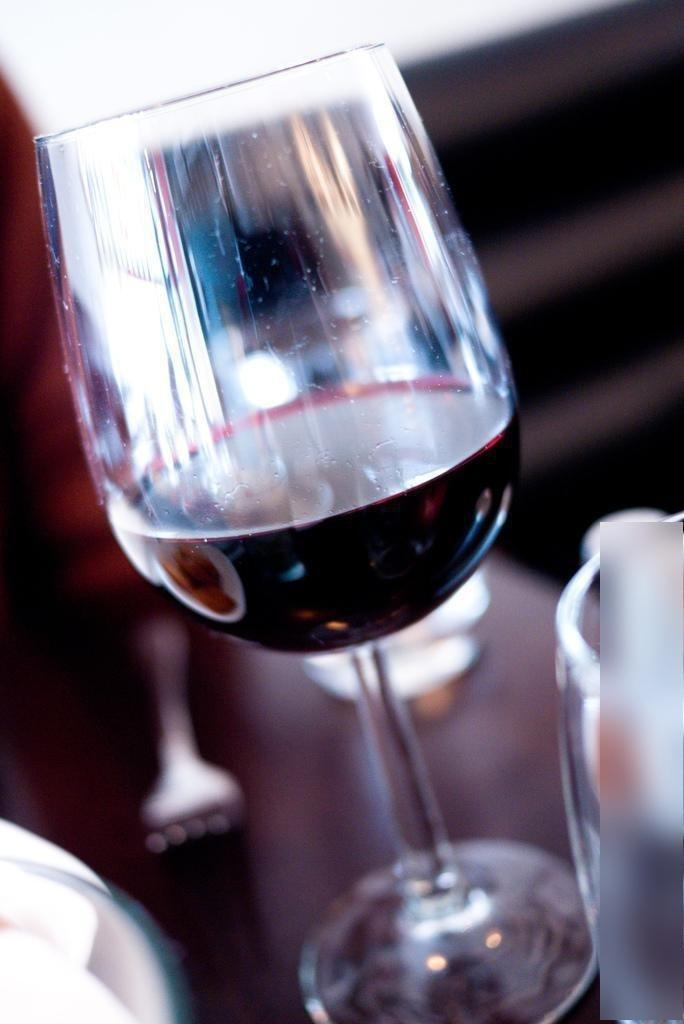glass-wine: (30, 36, 598, 1023)
